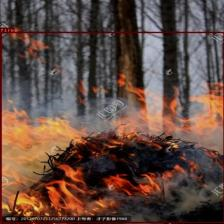fire: (0, 31, 224, 223)
